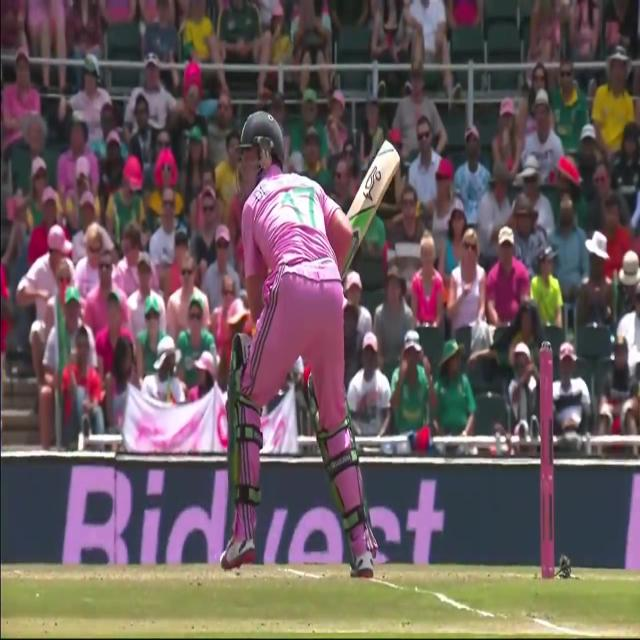Ball: (219, 113, 379, 575)
